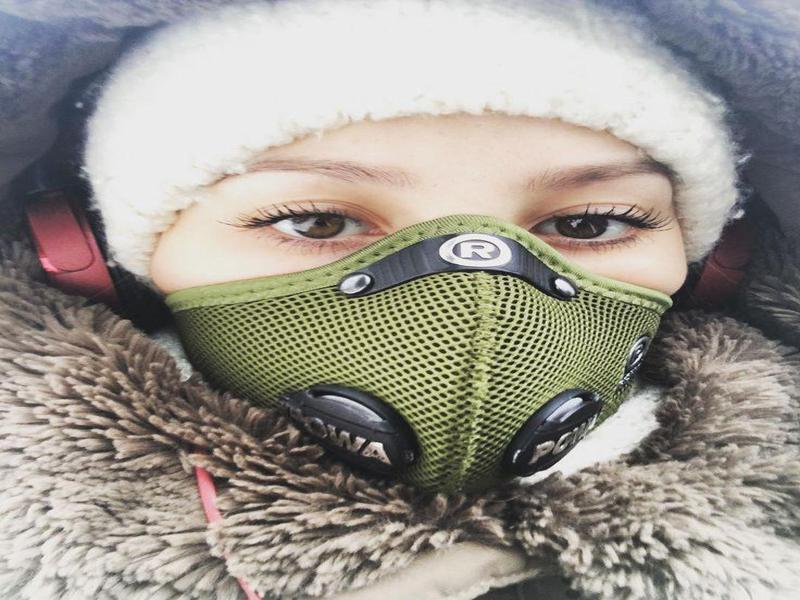with_mask: (154, 121, 693, 500)
